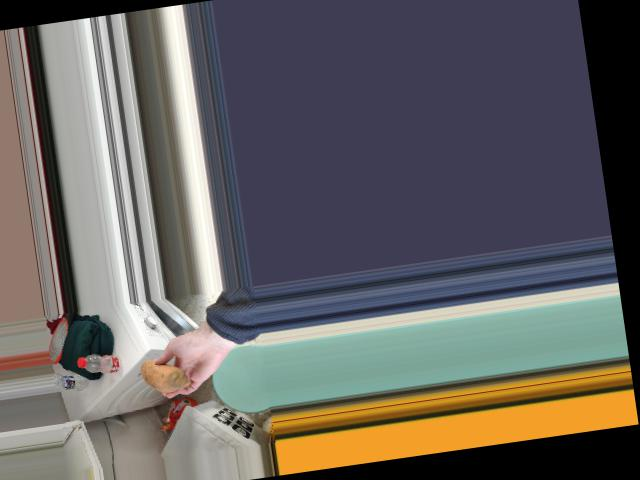sweet_potato: (140, 358, 185, 395)
